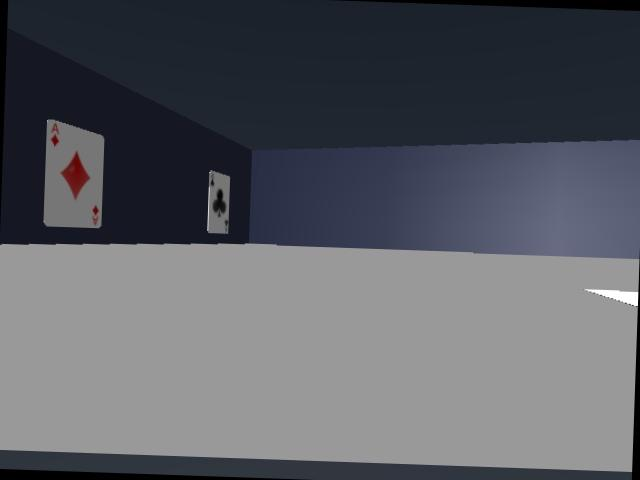club: (207, 171, 229, 233)
diamond: (44, 120, 103, 227)
